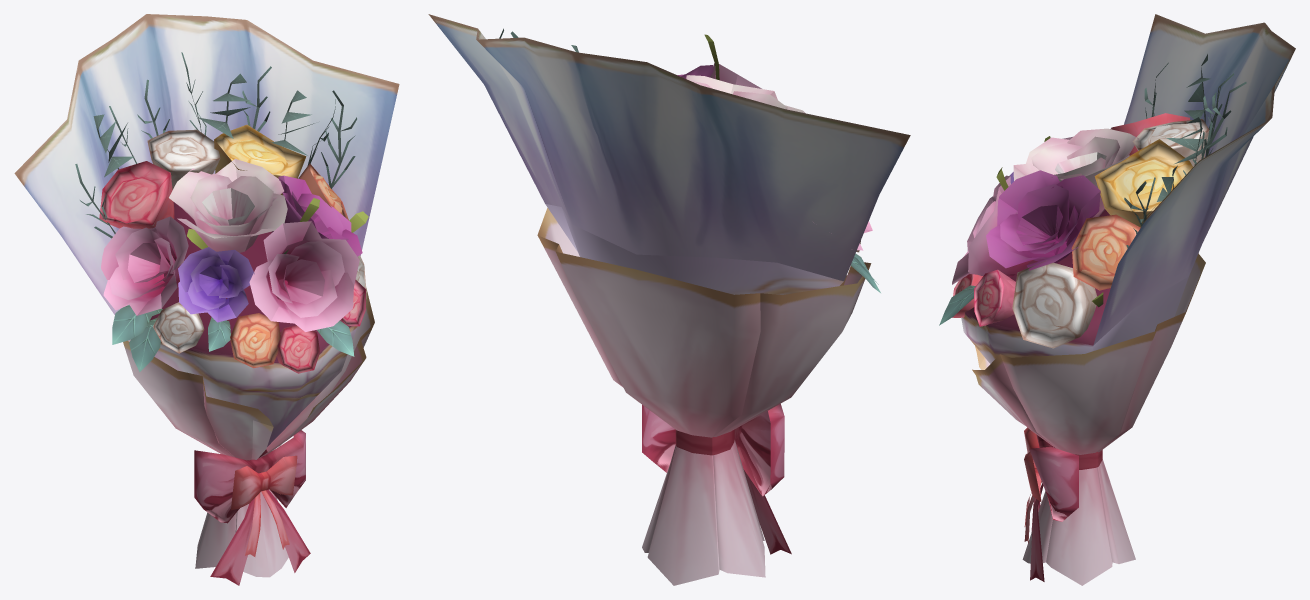
File: Flower02.fbx
The picture shows the model from 3 angles, left to right: view 1: azimuth 30°, elevation 25°; view 2: azimuth 150°, elevation 25°; view 3: azimuth 270°, elevation 25°; orthographic projection. The views are drawn at different scales.
Parts seen in each view (by area): view 1: Flower02m; view 2: Flower02m; view 3: Flower02m.
Part boxes in pixels (x1,y1,x2,y2): Flower02m: (14,14,399,585); Flower02m: (428,14,910,585); Flower02m: (939,14,1295,585).
Size of the model in its own units: 4.22 by 5.04 by 3.15.
Materials: 1 (1 with a texture image).
